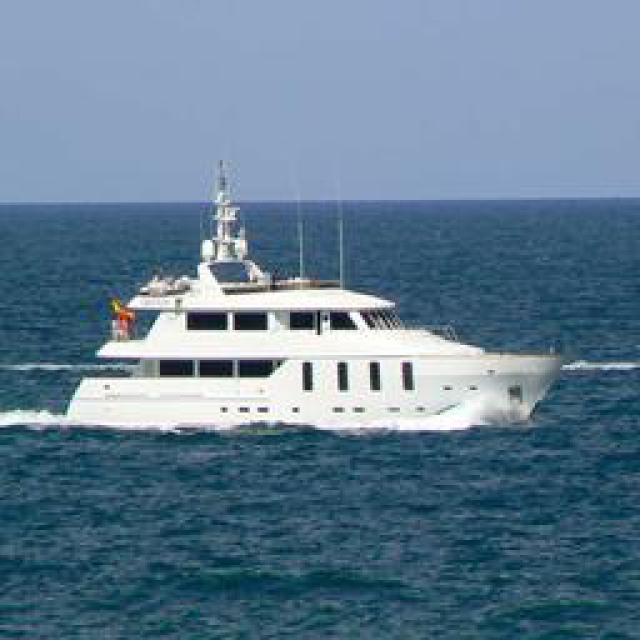Ship: (35, 166, 563, 441)
